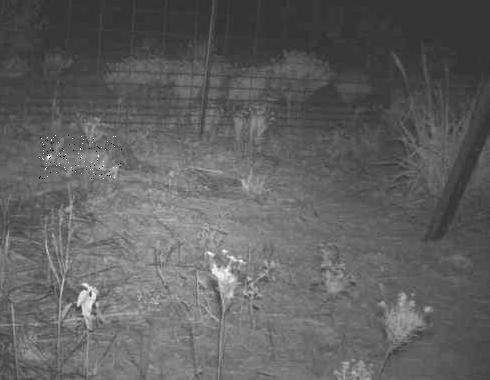Rabbit: (39, 136, 123, 180)
